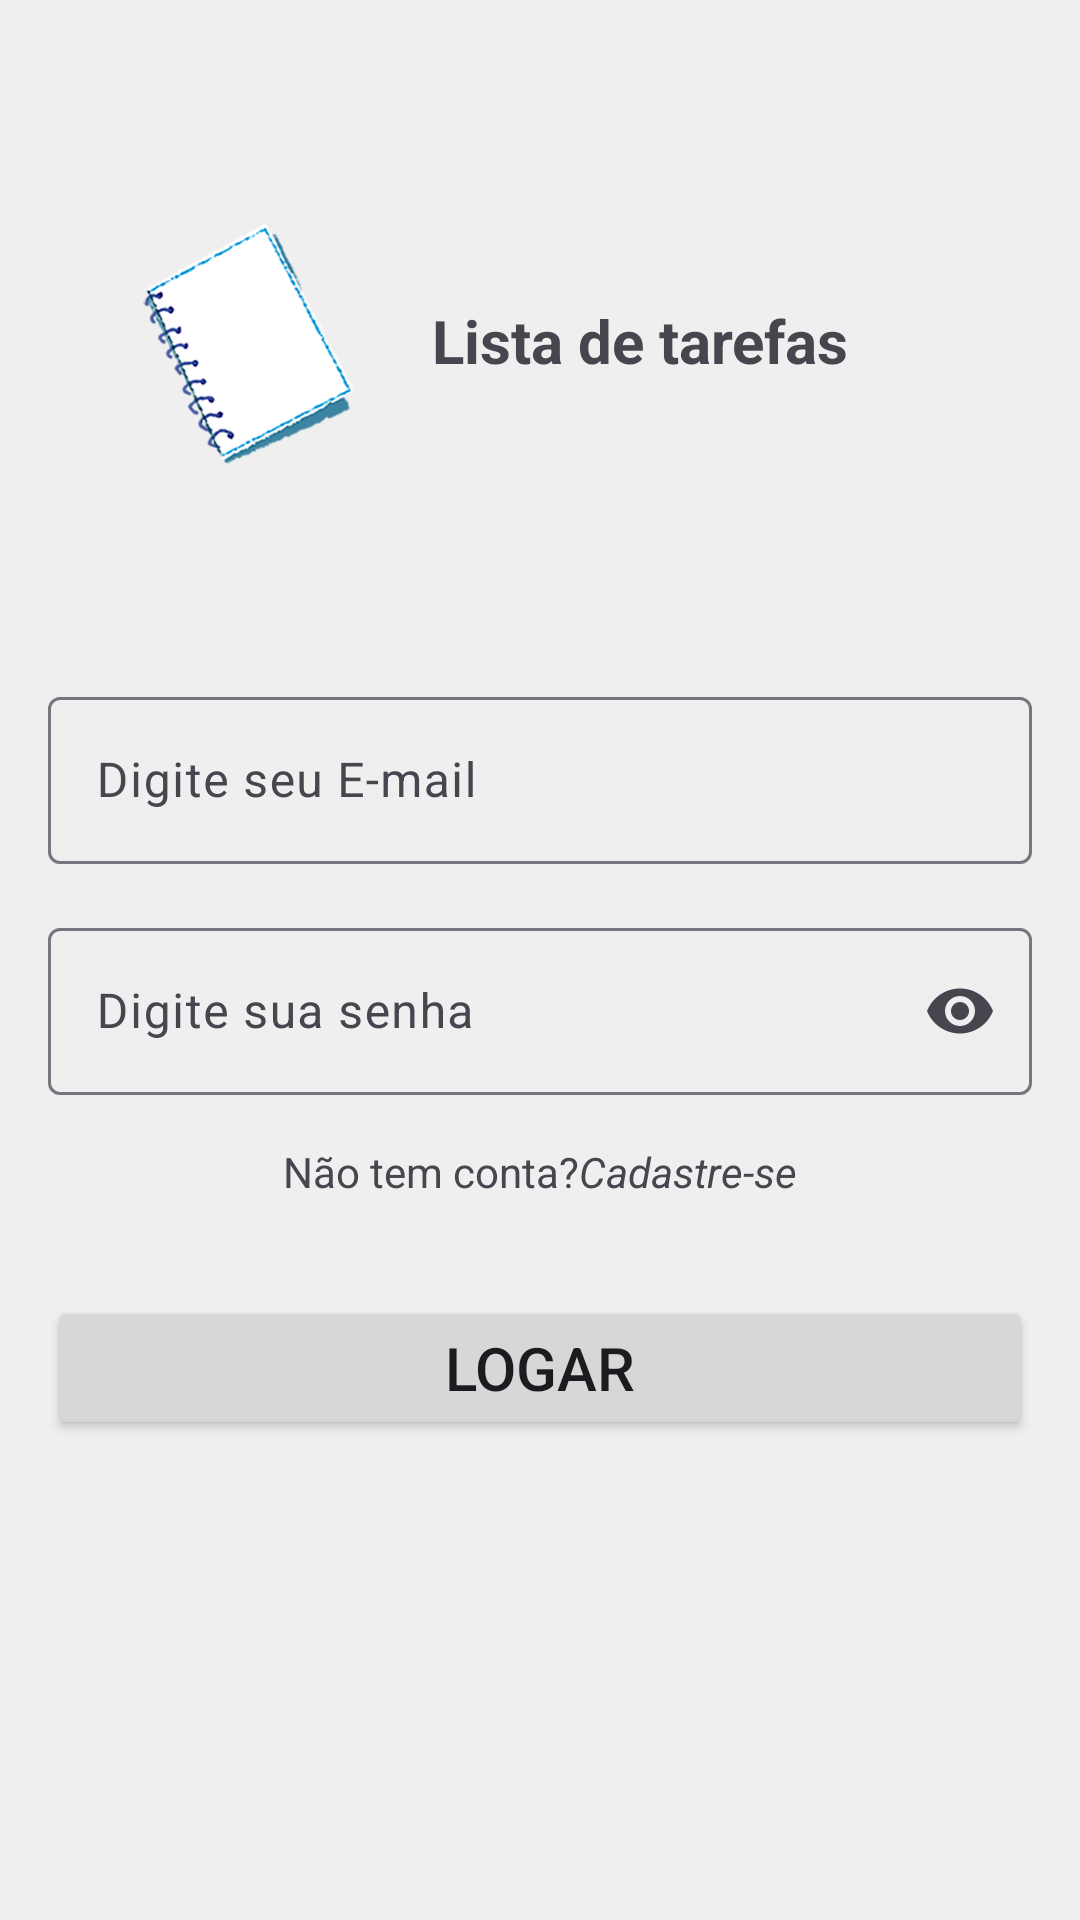

Where icons sit on this 1080w x 1920h app screen, as box(x1, y1, x2, y2):
caderno: box(143, 228, 351, 464)
